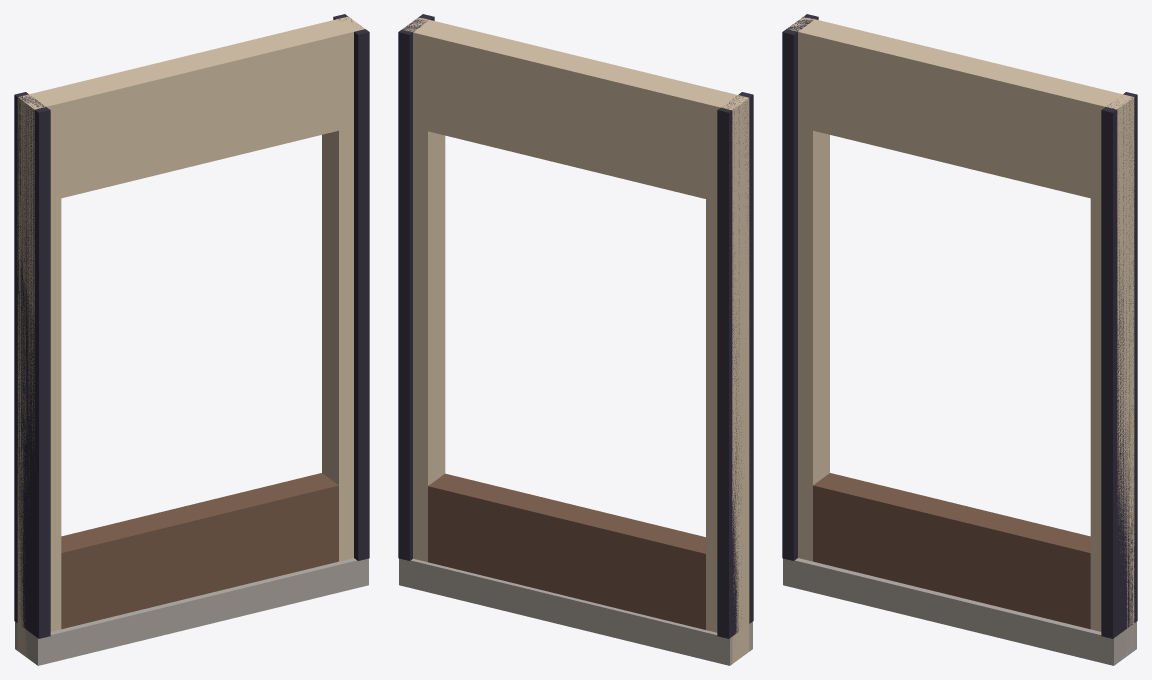
File: SM_Cafe_Wall_Window_2m.fbx
3 renders of one model, left to right at view 1: azimuth 30°, elevation 25°; view 2: azimuth 150°, elevation 25°; view 3: azimuth 330°, elevation 25°, orthographic.
Parts seen in each view (by area): view 1: SM_Cafe_Wall_Window_2m; view 2: SM_Cafe_Wall_Window_2m; view 3: SM_Cafe_Wall_Window_2m.
Part boxes in pixels (box(x1,y1,x2,y2)): SM_Cafe_Wall_Window_2m: box(14, 14, 369, 665); SM_Cafe_Wall_Window_2m: box(398, 14, 753, 665); SM_Cafe_Wall_Window_2m: box(782, 14, 1137, 665).
Size of the model in its own units: 2 by 0.26 by 3.2.
